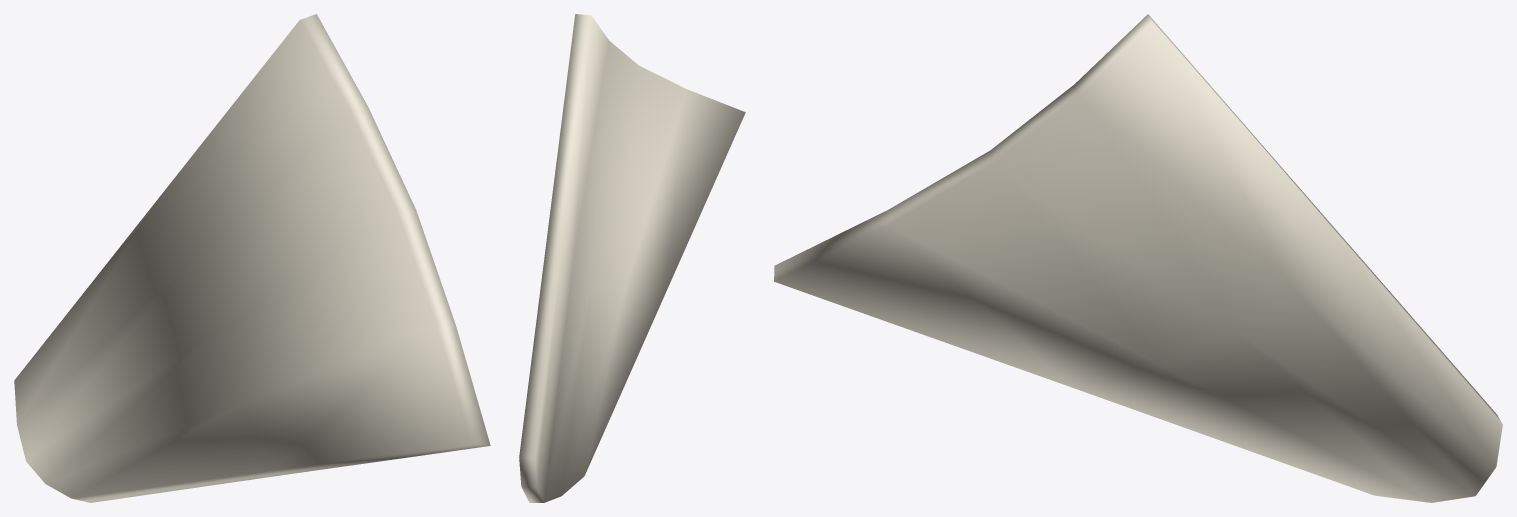
The picture shows the model from 3 angles, left to right: view 1: azimuth 30°, elevation 25°; view 2: azimuth 150°, elevation 25°; view 3: azimuth 270°, elevation 25°; orthographic projection. The views are drawn at different scales.
Parts seen in each view (by area): view 1: ZA_8bb674930b91a2f9; view 2: ZA_8bb674930b91a2f9; view 3: ZA_8bb674930b91a2f9.
Part boxes in pixels (bbox=[...]): ZA_8bb674930b91a2f9: bbox=[14, 14, 490, 502]; ZA_8bb674930b91a2f9: bbox=[519, 14, 745, 502]; ZA_8bb674930b91a2f9: bbox=[774, 14, 1502, 502].
Bounding box in the file's own units: 0.00354 × 0.0129 × 0.0162.
